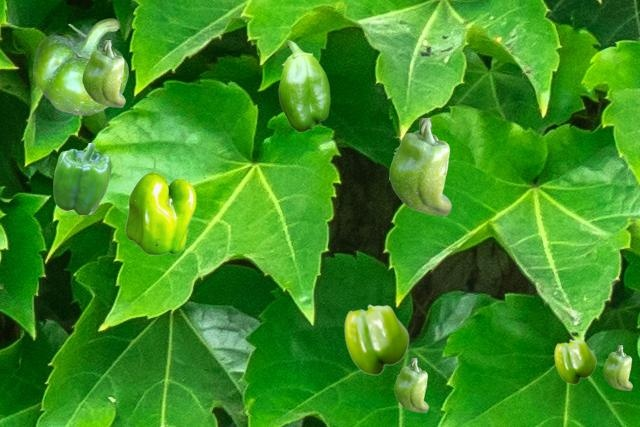bell_pepper: (33, 18, 127, 114), (389, 118, 450, 214), (125, 171, 195, 254), (278, 40, 329, 131), (344, 304, 408, 374), (53, 143, 110, 213), (82, 40, 124, 106), (554, 339, 595, 383), (394, 358, 427, 411), (603, 345, 631, 389)
